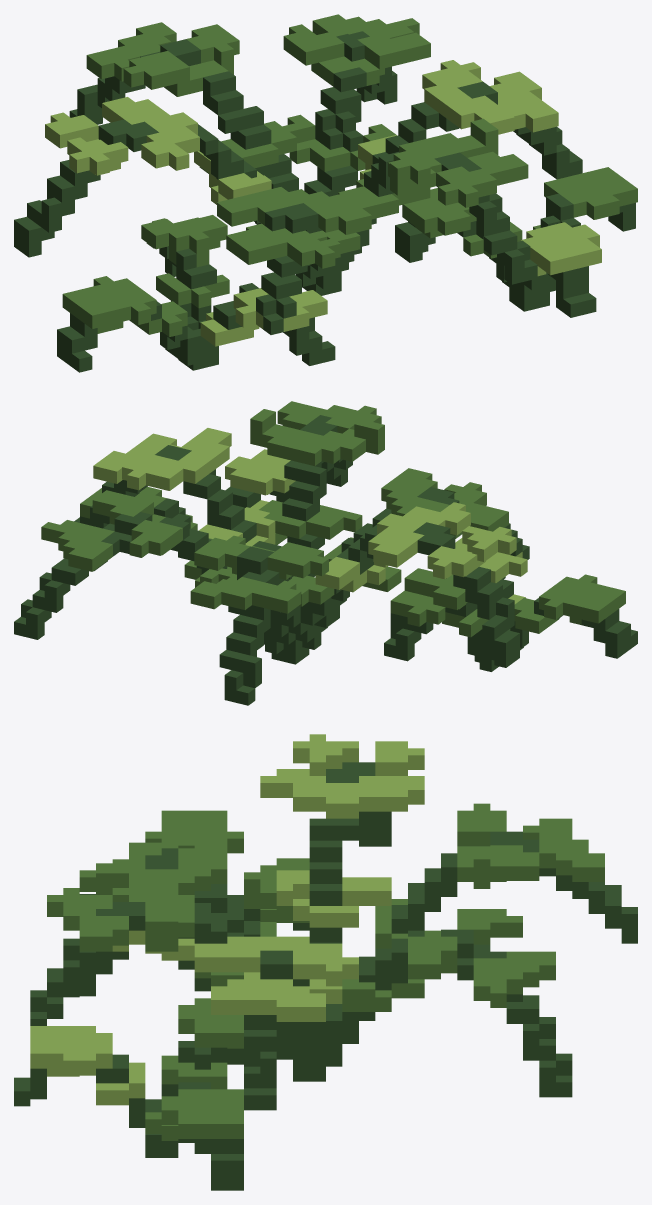
Rendered from fern_cluster_v2_species1_mid.glb.
3 renders of one model, top to bottom at view 1: azimuth 30°, elevation 25°; view 2: azimuth 150°, elevation 25°; view 3: azimuth 270°, elevation 25°, orthographic. The views are drawn at different scales.
Visible parts, largest first — view 1: fern_cluster_v2_species1_mid; view 2: fern_cluster_v2_species1_mid; view 3: fern_cluster_v2_species1_mid.
Boxes of the visible parts, box(x1,y1,x2,y2) form: fern_cluster_v2_species1_mid: box(14, 14, 637, 372); fern_cluster_v2_species1_mid: box(14, 401, 637, 705); fern_cluster_v2_species1_mid: box(14, 734, 637, 1190).
Size of the model in its own units: 2.81 by 0.875 by 2.38.
1 material, 1 textured.
